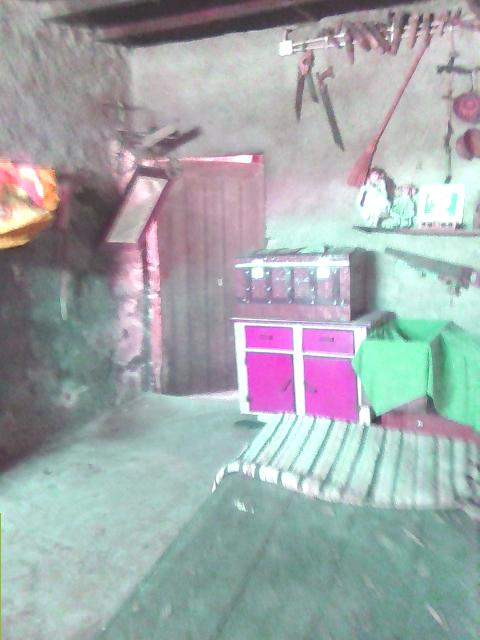semi_door: (136, 154, 264, 398)
